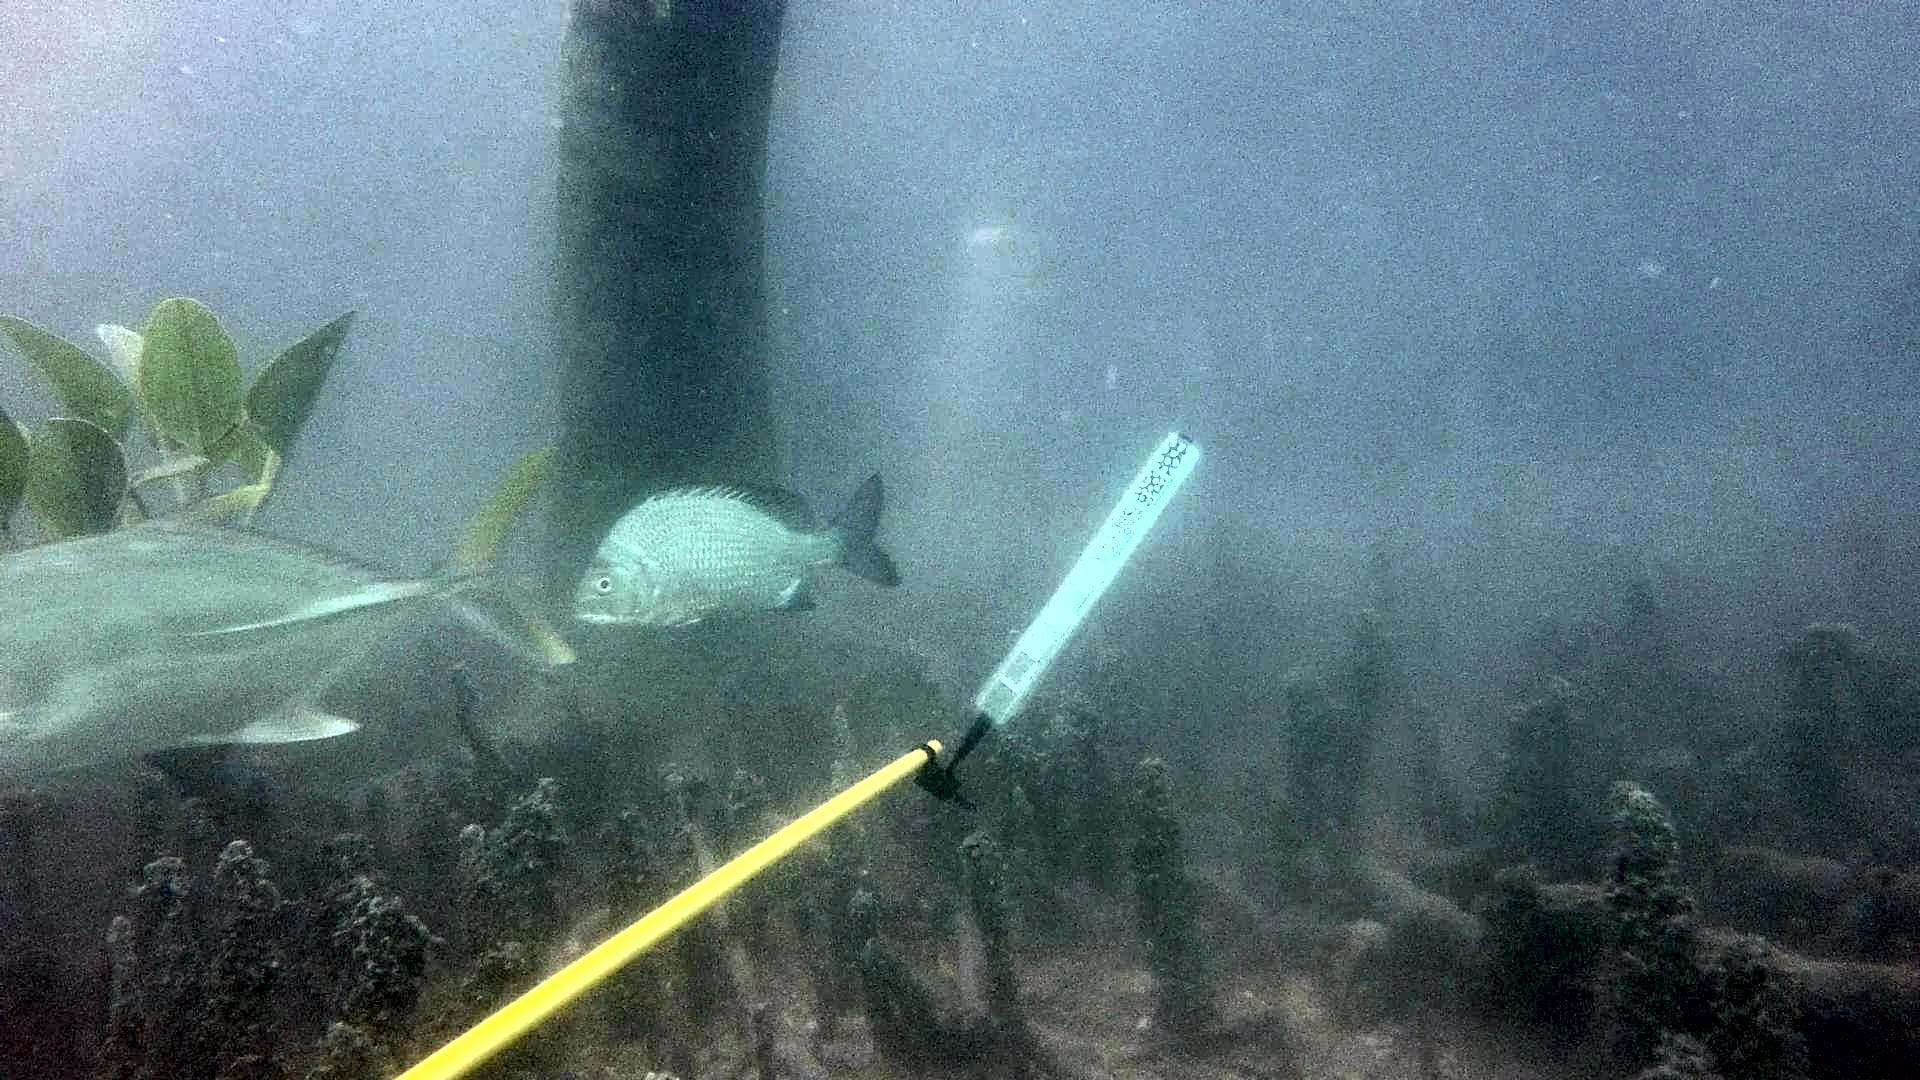acanthopagrus palmaris: (560, 460, 916, 642)
caranx: (2, 440, 587, 792)
